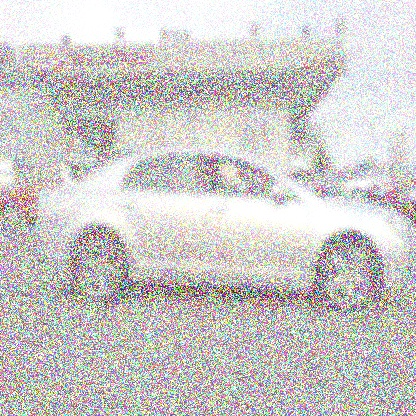Vehicle: (35, 144, 414, 314)
